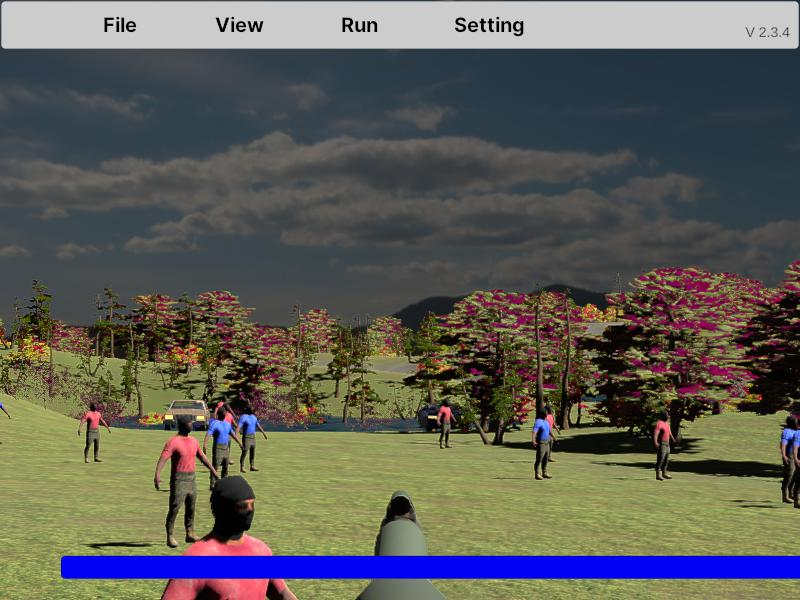Human: (143, 475, 330, 600), (154, 412, 219, 549), (203, 406, 243, 493), (237, 402, 267, 473), (79, 400, 111, 464), (533, 404, 556, 481), (781, 414, 798, 506), (655, 408, 675, 481), (787, 415, 800, 504), (436, 398, 457, 450), (0, 388, 10, 445)
car: (163, 399, 210, 433)
